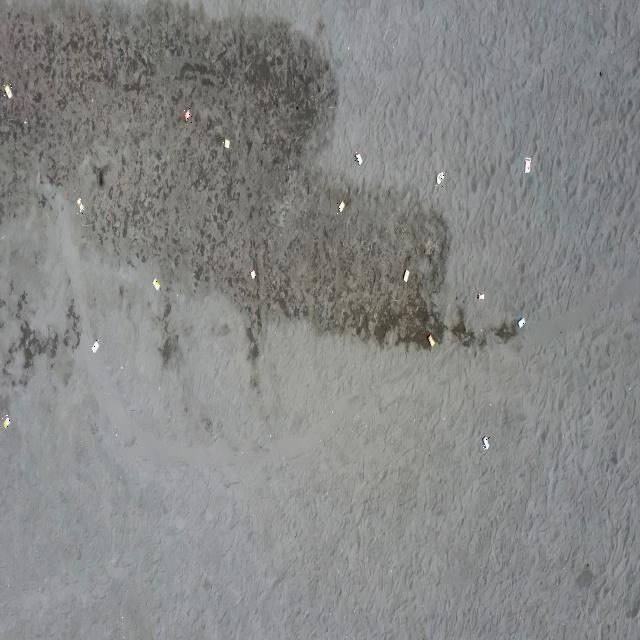Garbage: (427, 332, 435, 347), (75, 198, 83, 212), (353, 151, 362, 163), (4, 83, 11, 98), (435, 172, 444, 183), (91, 340, 99, 352), (336, 200, 344, 212), (516, 316, 524, 327), (2, 415, 9, 427), (482, 435, 488, 449), (183, 108, 190, 120), (524, 156, 529, 172), (151, 279, 159, 288), (223, 138, 230, 148), (476, 292, 484, 299), (404, 270, 408, 281), (250, 271, 255, 278), (23, 120, 27, 123)
